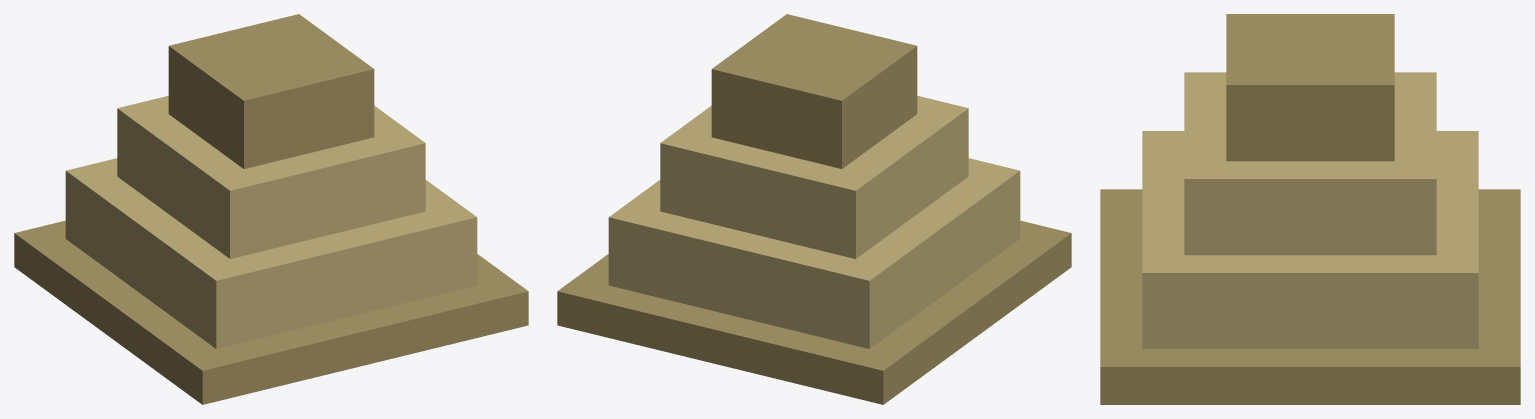
The picture shows the model from 3 angles, left to right: view 1: azimuth 30°, elevation 25°; view 2: azimuth 150°, elevation 25°; view 3: azimuth 270°, elevation 25°; orthographic projection. The views are drawn at different scales.
Size of the model in its own units: 10 by 7 by 10.
